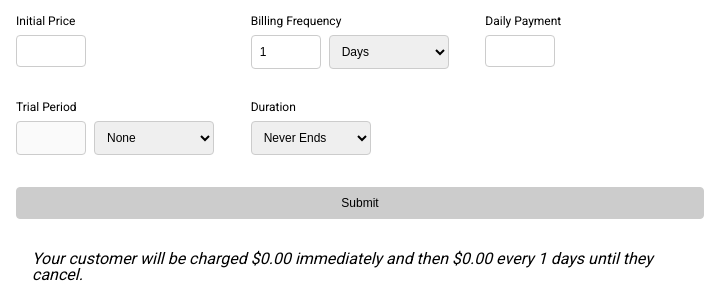
Test: custom behaviors › should autofill the 'Payment Cycle' input to the initial payment if the initial payment has a value and THERE IS NO value yet for this field.
The image size is (721, 298).
Type "10" into the number field labelled "Initial Price" at coordinates (51, 51), box [16,35,86,67]
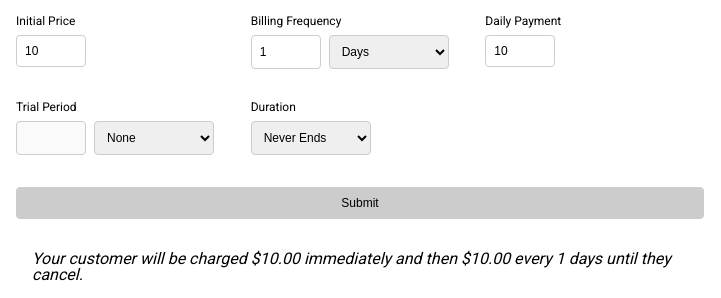
Expected: the number field labelled "Daily Payment" holds "10", [485,35,555,67]
